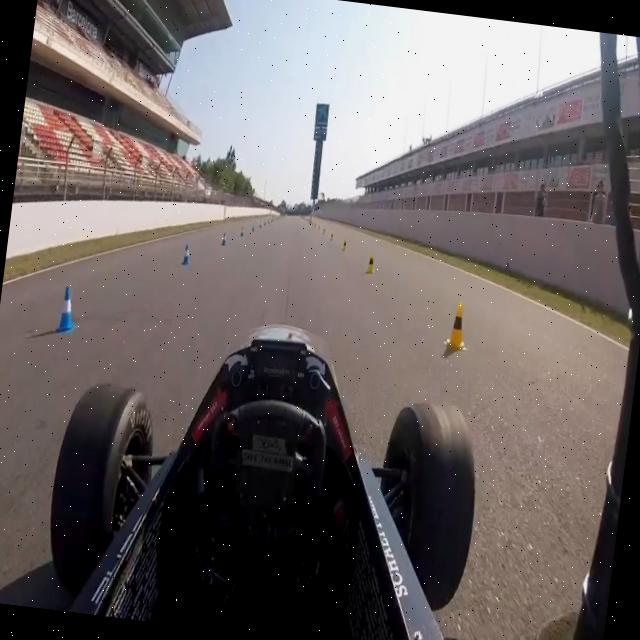blue_cone: (52, 275, 87, 340), (180, 240, 192, 266), (220, 230, 228, 248), (238, 224, 246, 239)
yellow_cone: (440, 296, 472, 356), (363, 250, 378, 276), (340, 237, 348, 252)
